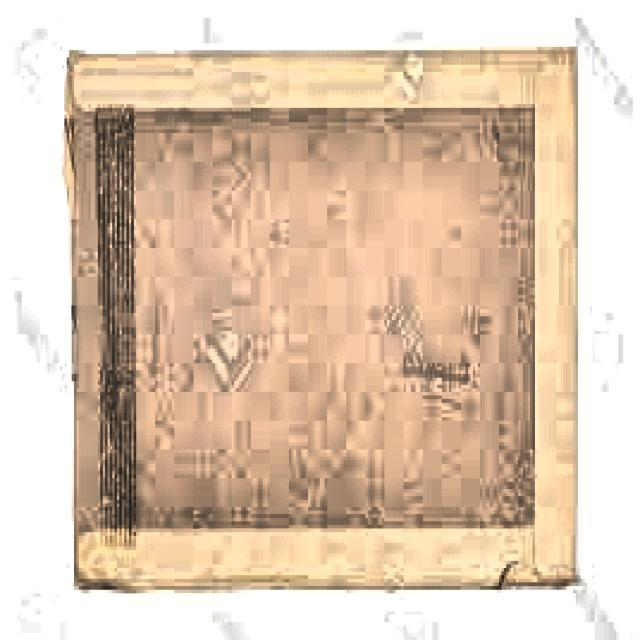cardboard: (64, 43, 580, 590)
